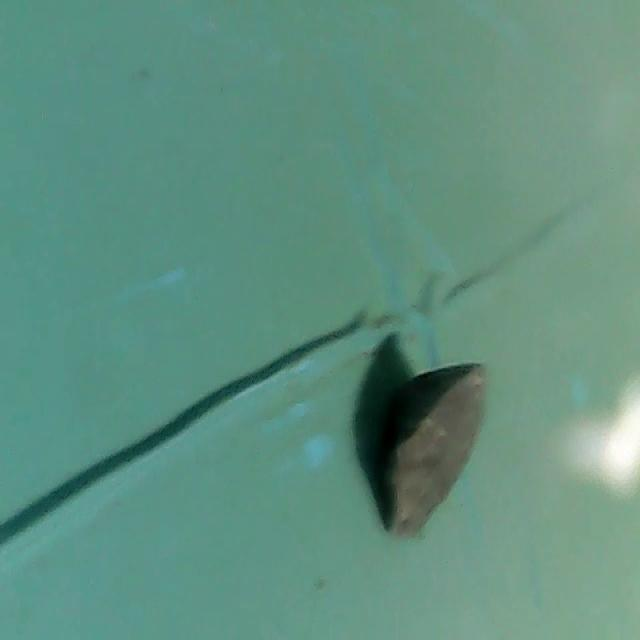rock: (356, 348, 496, 554)
